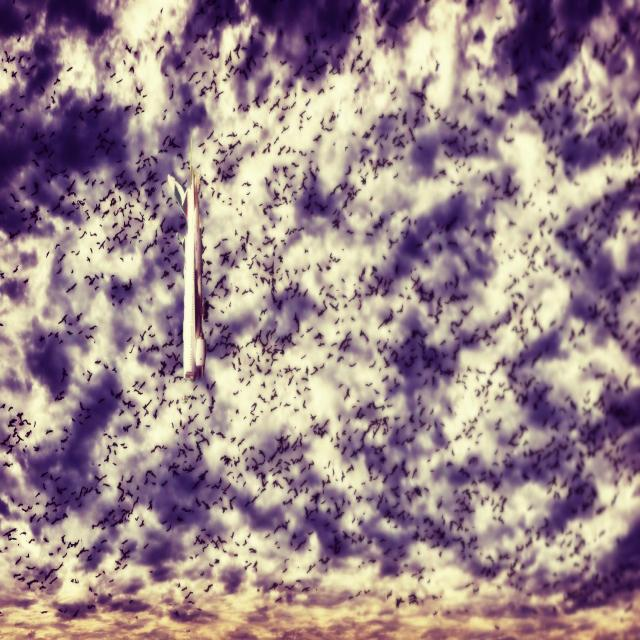airplane: (168, 136, 207, 382)
